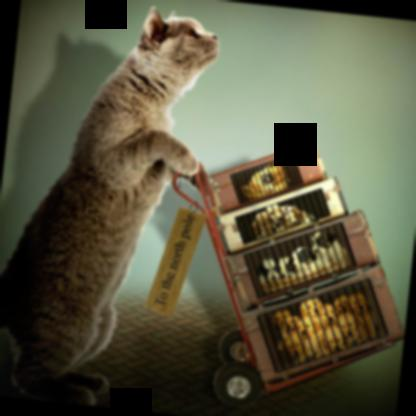suitcase: (237, 261, 404, 389), (223, 210, 380, 311), (216, 174, 348, 255), (211, 144, 324, 214)
